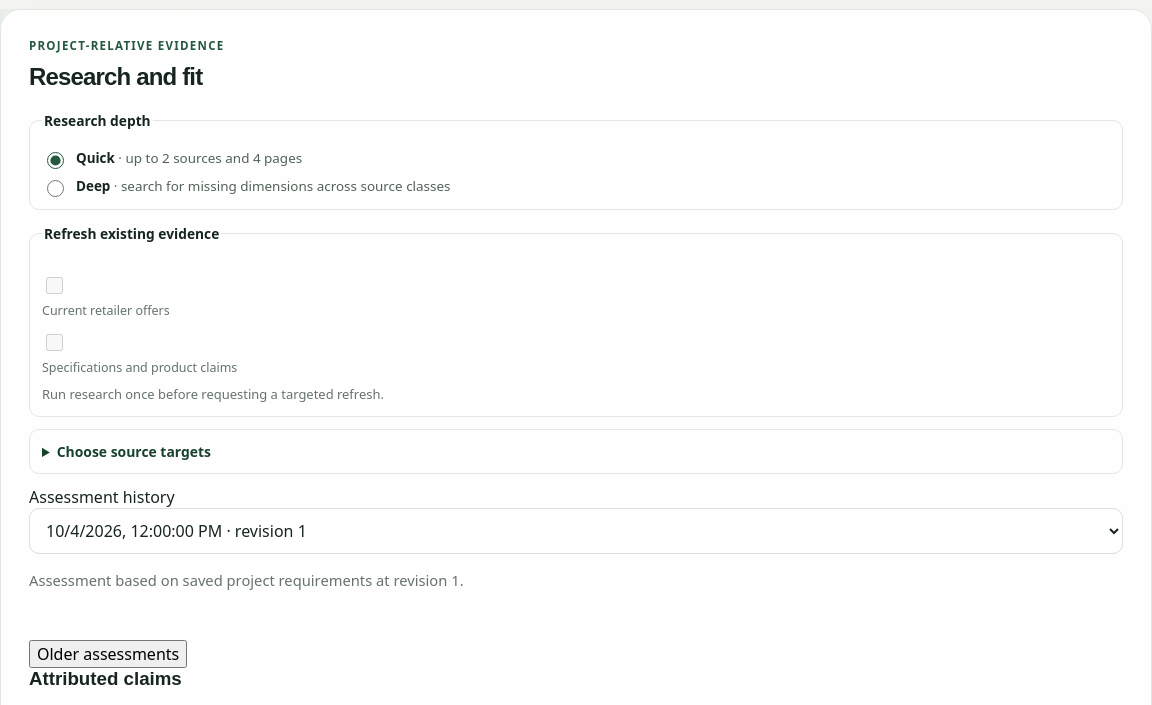
pages assessment history and loads evidence from the selected run
The image size is (1152, 705).
Click the button "Older assessments" at (108, 654), box [29,640,187,668]
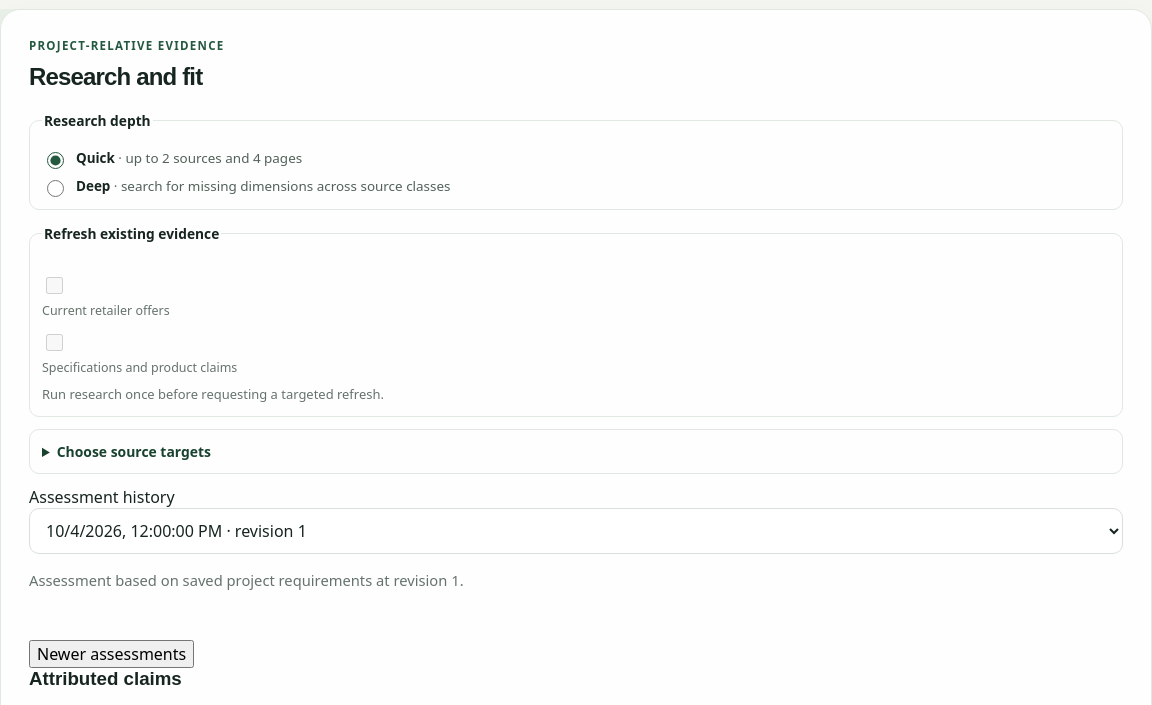
Now the button "Newer assessments" is shown, box [29,640,194,668]
Select "10/4/2026, 12:00:00 PM · revision 1" in the dropdown labelled "Assessment history" at (576, 531), box [29,508,1123,554]
(page scrolled)
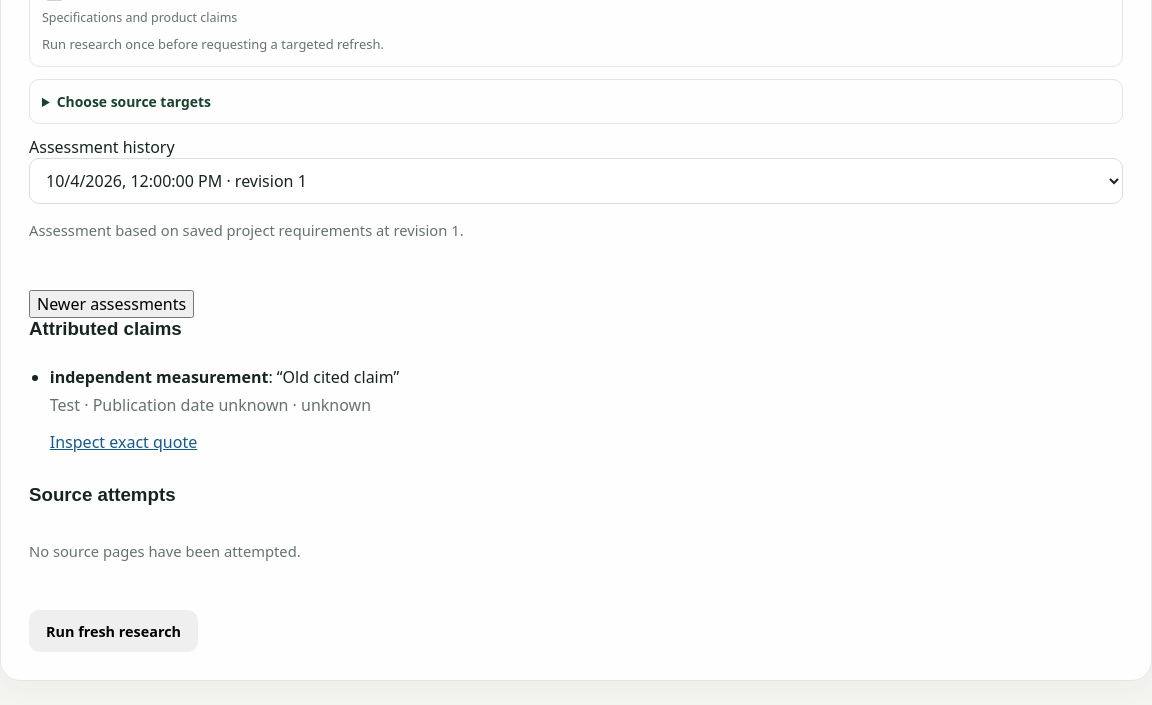
Now the list item "Old cited claim" is shown, box [283,366,394,388]
